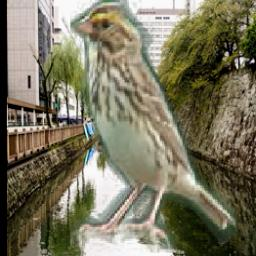Sparrow: (70, 0, 236, 253)
